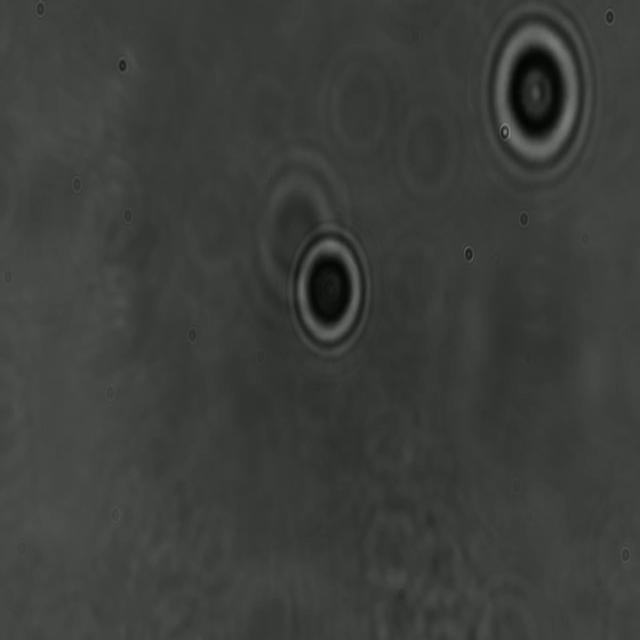DCELL: (284, 218, 376, 362)
LCELL: (476, 0, 596, 194)
